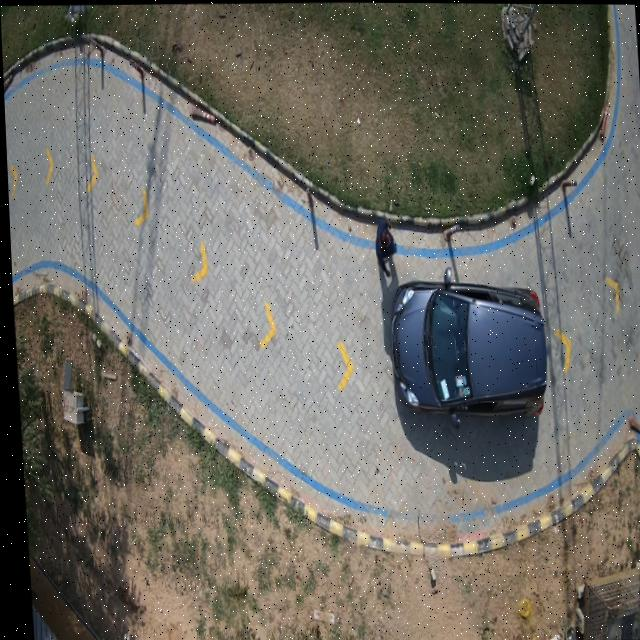car: (388, 269, 543, 421)
